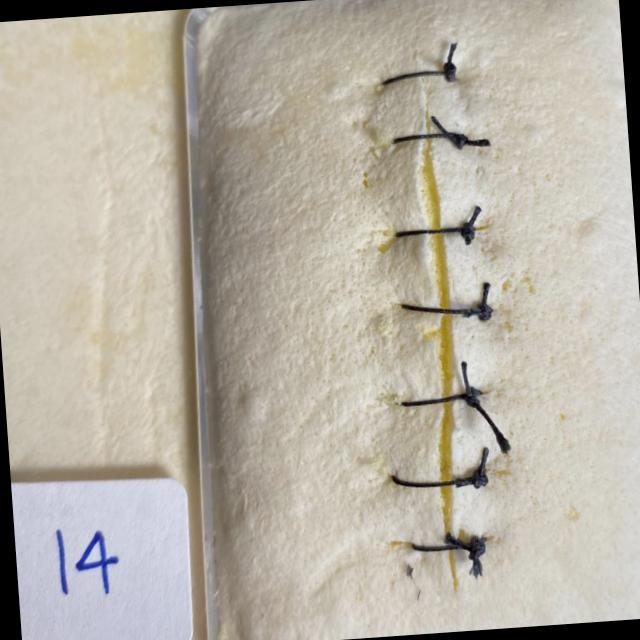knot: (468, 536, 484, 559), (446, 133, 468, 148), (464, 388, 481, 407), (471, 469, 488, 488), (461, 223, 476, 239), (477, 302, 491, 319), (443, 61, 455, 80)
leftover: (467, 391, 509, 452), (428, 114, 452, 139), (459, 358, 472, 398), (443, 39, 457, 75), (464, 203, 481, 232), (442, 534, 476, 548), (449, 133, 492, 144), (451, 475, 484, 486), (480, 278, 490, 314), (479, 444, 488, 482), (471, 542, 479, 581), (460, 307, 486, 318), (444, 69, 454, 82), (464, 226, 470, 247)
stitch: (389, 471, 488, 487), (398, 389, 484, 406), (378, 69, 456, 86), (408, 535, 488, 551), (399, 302, 494, 315), (393, 226, 477, 237), (390, 133, 468, 144)
wound: (411, 50, 458, 595)
